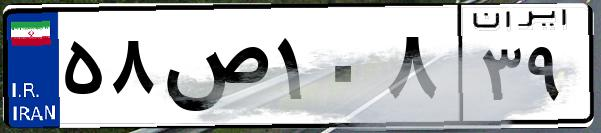0: (330, 28, 385, 110)
1: (270, 28, 330, 110)
3: (475, 38, 525, 113)
5: (57, 26, 110, 100)
8: (385, 28, 445, 110), (110, 28, 158, 98)
9: (525, 38, 570, 115)
ص: (158, 20, 270, 120)
